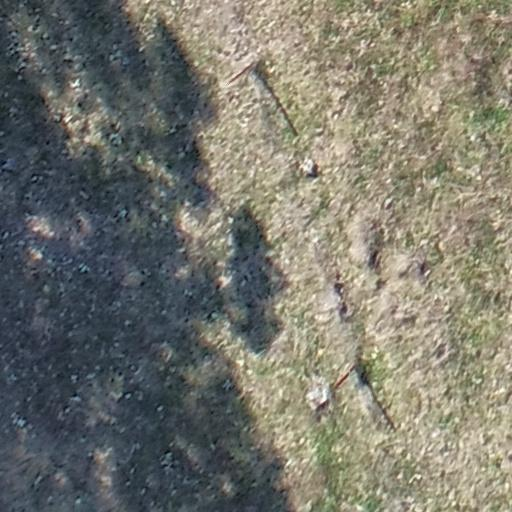stone: (305, 378, 332, 412), (298, 156, 318, 179), (160, 450, 176, 469), (108, 132, 124, 148), (108, 388, 124, 403), (77, 262, 91, 274), (383, 196, 395, 210), (222, 378, 234, 392), (117, 208, 130, 220), (409, 473, 422, 485), (69, 77, 81, 89), (431, 427, 443, 439), (69, 394, 82, 404), (16, 417, 26, 428), (121, 56, 131, 66), (468, 133, 478, 143), (70, 374, 79, 384), (122, 391, 132, 399), (156, 404, 164, 413), (311, 236, 319, 244)
